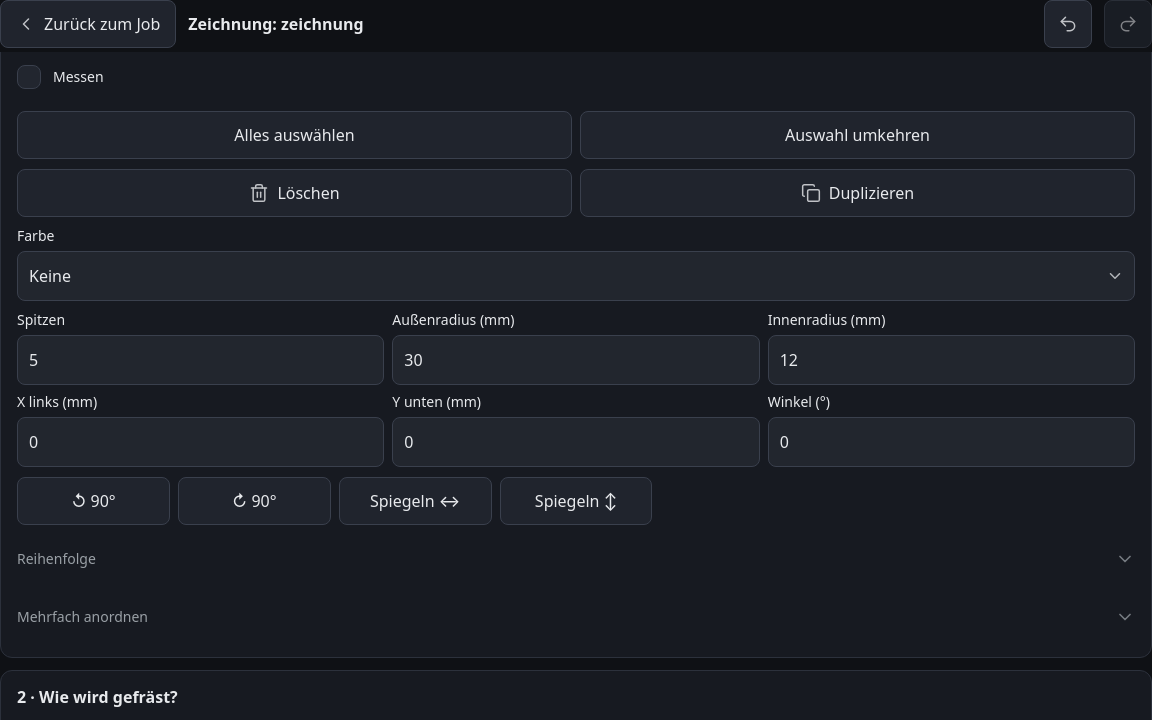
the numbers of the further shapes › shows a number as it is drawn: 99 tips are 32, and the field says so
Replace the text in the field labelled "Spitzen" with "99": (201, 360) [18, 336, 383, 384]
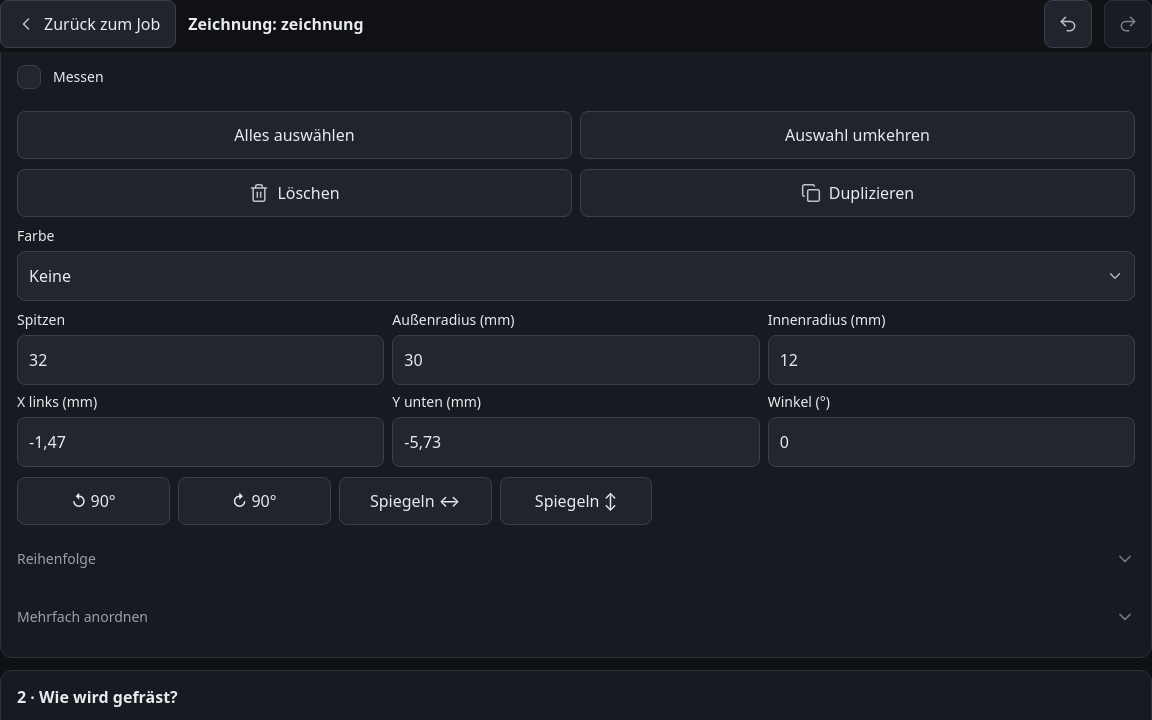
Check: the field labelled "Spitzen" holds "32", box [18, 336, 383, 384]
Replace the text in the field labelled "Innenradius (mm)" with "50": (951, 360) [769, 336, 1134, 384]
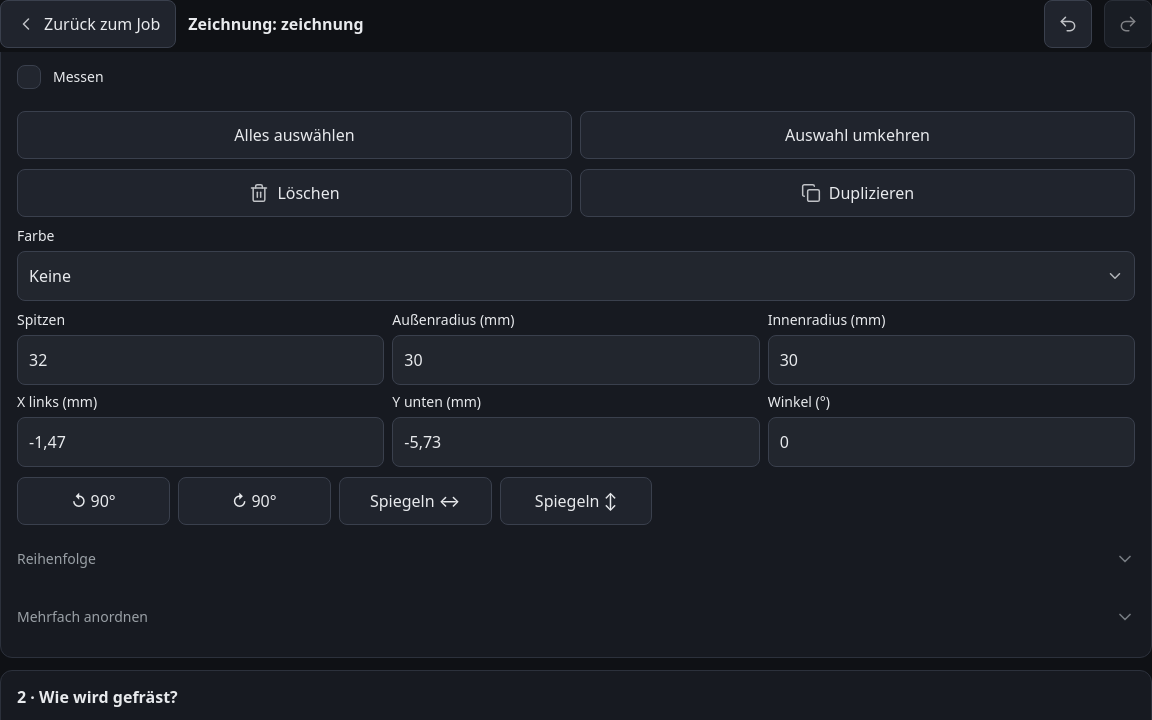
Check: the field labelled "Innenradius (mm)" holds "30", box [769, 336, 1134, 384]
